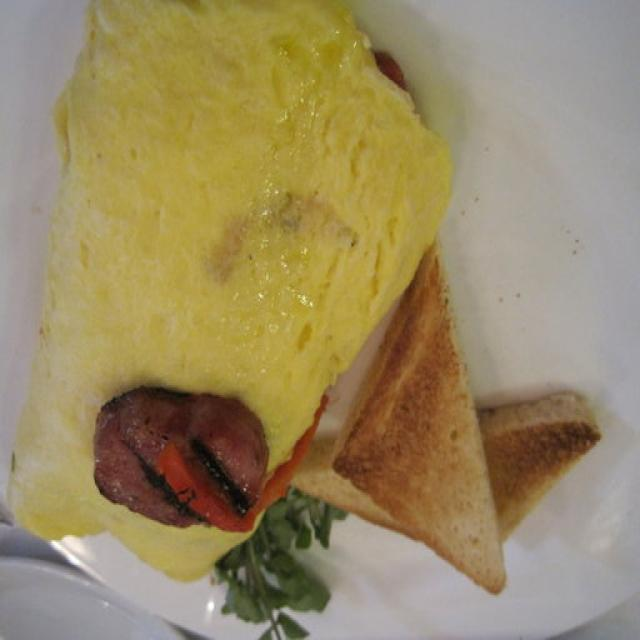telur_ayam_dadar: (4, 0, 454, 583)
